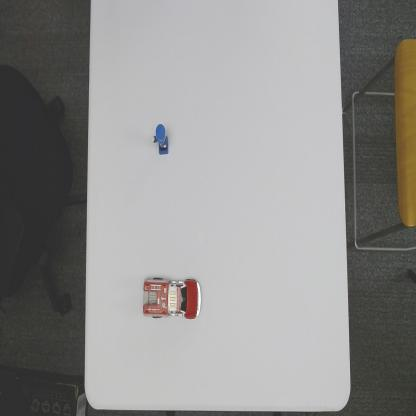Firetruck: (142, 273, 203, 322)
